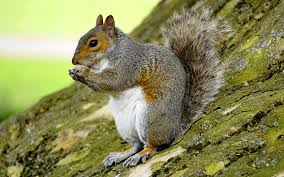Ardilla: (64, 10, 199, 153)
